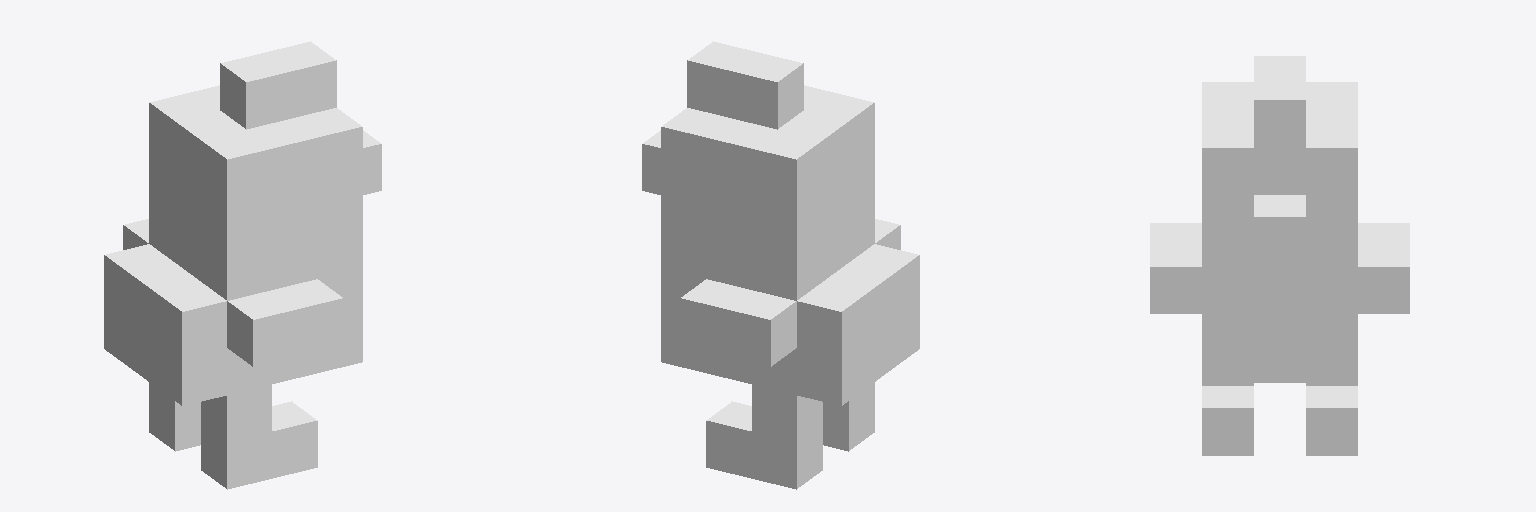
Rendered from farm-0-gallina.obj.
3 views of the same model, side by side, from view 1: azimuth 30°, elevation 25°; view 2: azimuth 150°, elevation 25°; view 3: azimuth 270°, elevation 25° (orthographic).
Parts seen in each view (by area): view 1: gallina; view 2: gallina; view 3: gallina.
Part boxes in pixels (left/top/right/bottom): gallina: left=104, top=41, right=381, bottom=489; gallina: left=642, top=41, right=919, bottom=489; gallina: left=1150, top=56, right=1409, bottom=455.
Size of the model in its own units: 0.5 by 0.8 by 0.5.